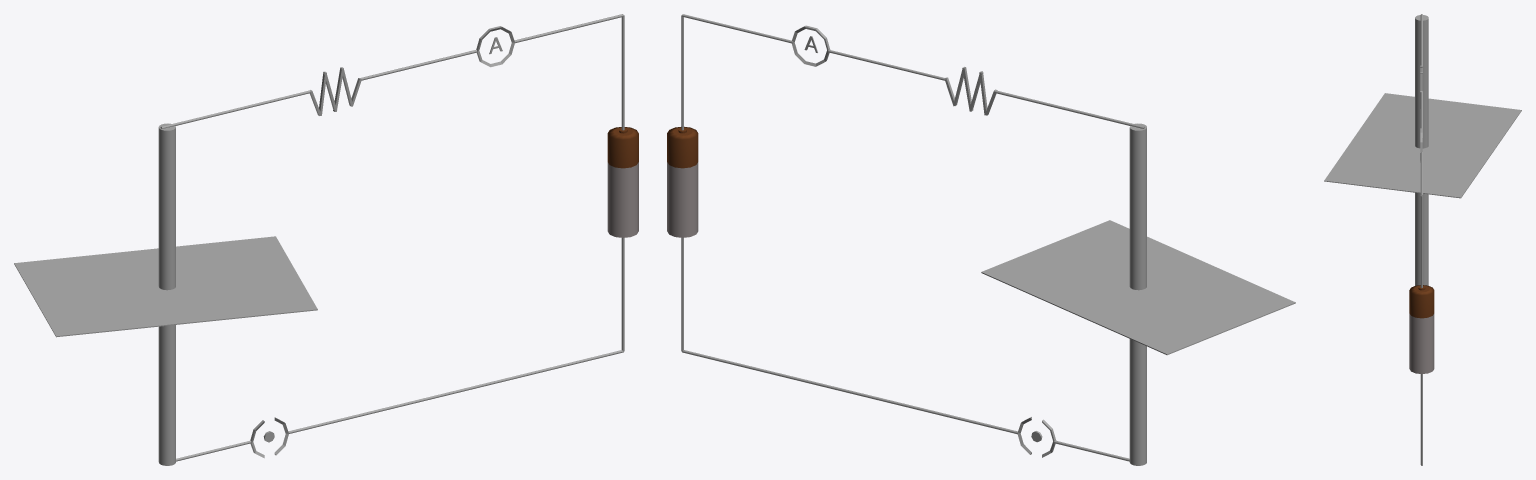
Rendered from Setup1.fbx.
3 renders of one model, left to right at view 1: azimuth 30°, elevation 25°; view 2: azimuth 150°, elevation 25°; view 3: azimuth 270°, elevation 25°, orthographic. The views are drawn at different scales.
Visible parts, largest first — view 1: pCube1, pCylinder9, pCylinder1, pCylinder7; view 2: pCube1, pCylinder9, pCylinder1, pCylinder7; view 3: pCube1, pCylinder9, pCylinder1, pCylinder2, pCylinder6.
Boxes of the visible parts, x1,y1,x2,y2 form: pCube1: (14,236,317,337); pCylinder9: (158,123,175,465); pCylinder1: (607,127,638,237); pCylinder7: (288,350,623,433); pCube1: (981,220,1295,355); pCylinder9: (1129,123,1146,465); pCylinder1: (667,126,698,237); pCylinder7: (682,350,1018,434); pCube1: (1324,93,1521,198); pCylinder9: (1415,15,1428,285); pCylinder1: (1409,285,1434,373); pCylinder2: (1420,195,1422,287); pCylinder6: (1420,374,1422,465).
Bounding box in the file's own units: 723 × 427 × 256.
